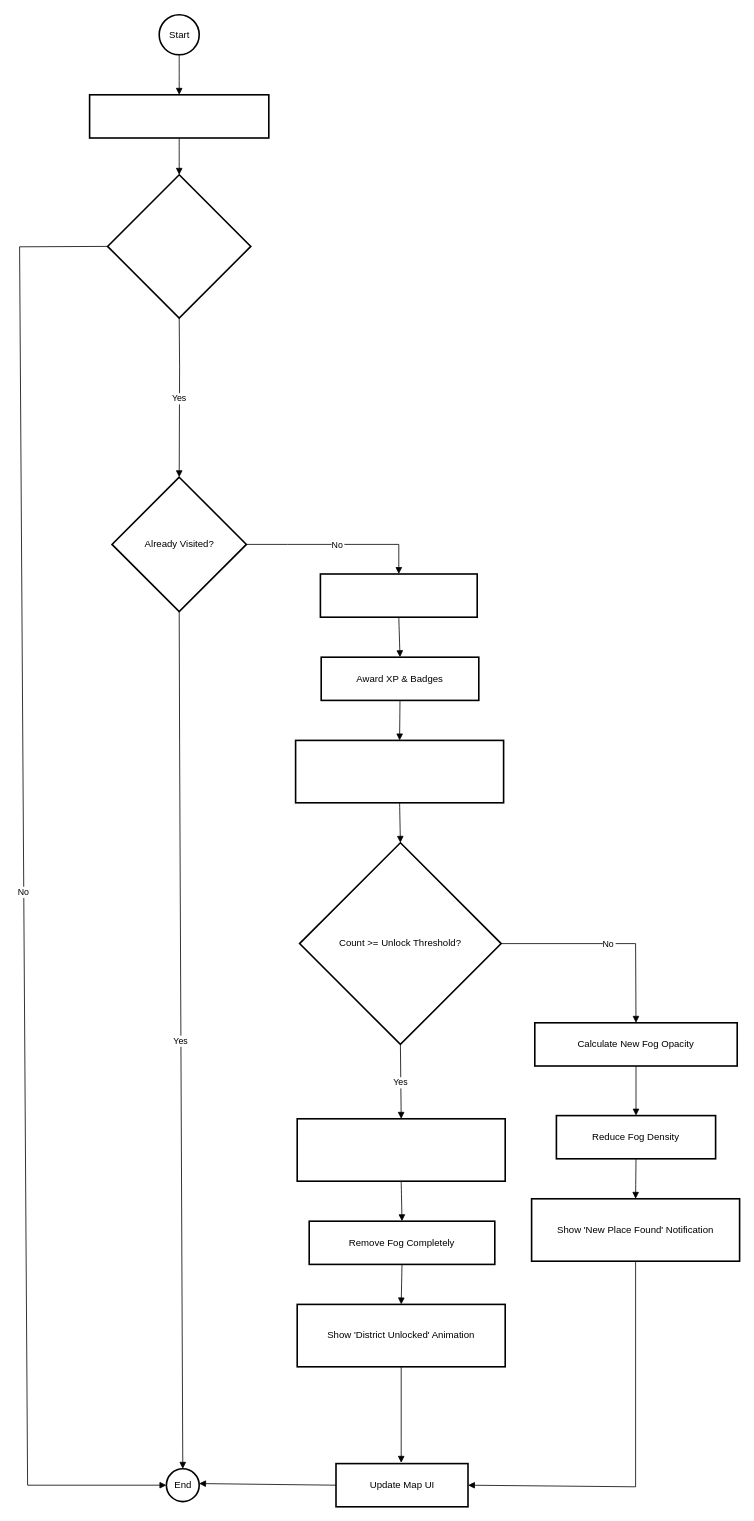
Some shapes in this 754 by 1521 pixel diagram are drawn without their labels. The shapes that lost their labels are listed below. From the top down, each one's centre as x and y in pixels, then its label:
(x=178, y=116): User moves to location
(x=178, y=246): Is Location a POI?
(x=398, y=595): Mark POI as Visited
(x=399, y=771): Increment District Progress Count
(x=401, y=1150): Set District Status: FULLY UNLOCKED
